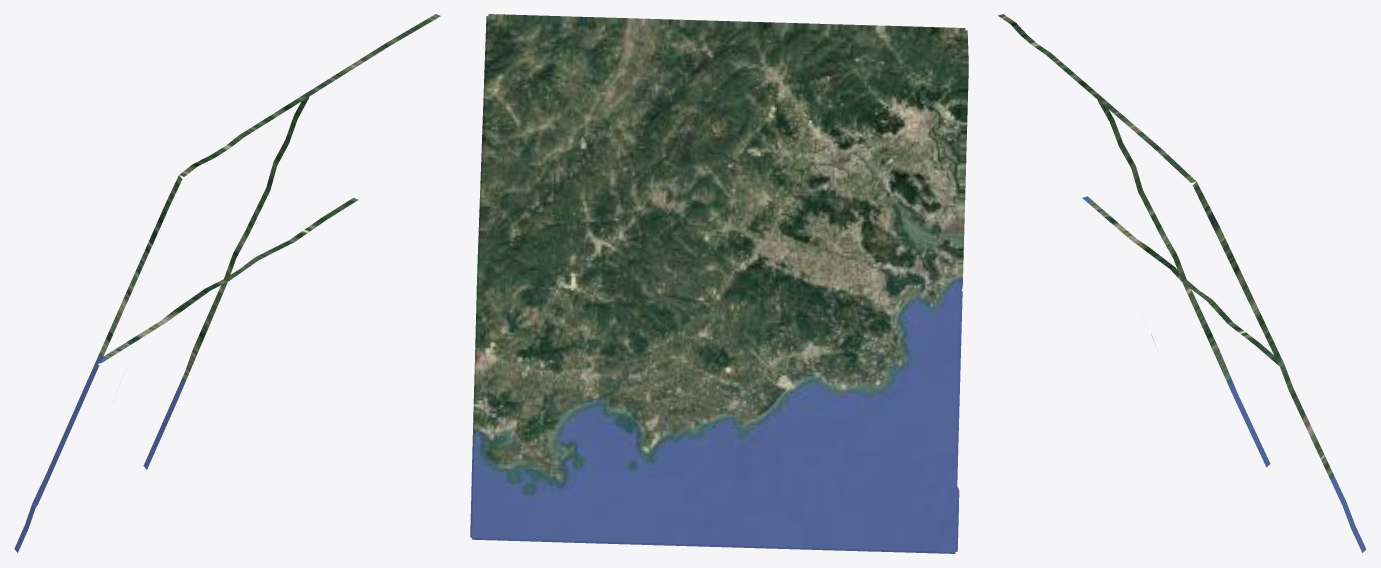
3 renders of one model, left to right at view 1: azimuth 30°, elevation 25°; view 2: azimuth 150°, elevation 25°; view 3: azimuth 270°, elevation 25°, orthographic. The views are drawn at different scales.
Size of the model in its own units: 158067 by 145672 by 119875.
Materials: 1 (1 with a texture image).
